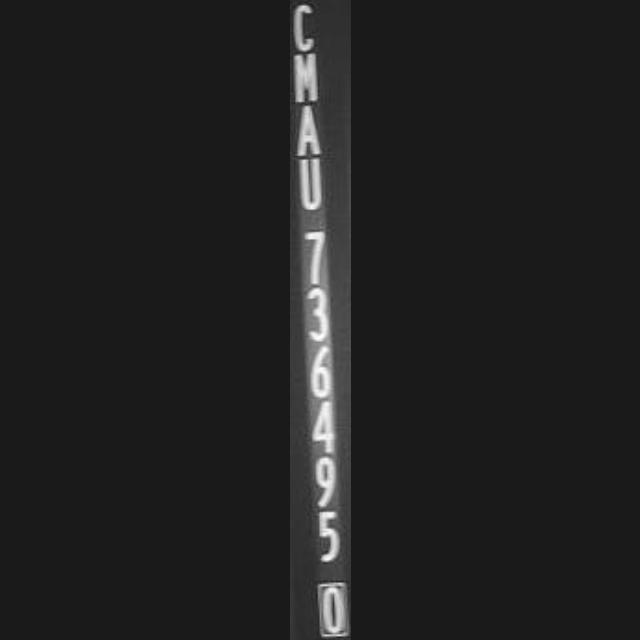0: (316, 576, 350, 640)
3: (290, 284, 344, 342)
4: (302, 402, 348, 456)
5: (306, 508, 349, 570)
6: (297, 341, 345, 404)
7: (291, 228, 339, 284)
9: (298, 454, 346, 508)
a: (290, 102, 334, 156)
c: (289, 0, 323, 54)
m: (290, 51, 330, 107)
u: (289, 156, 333, 214)
